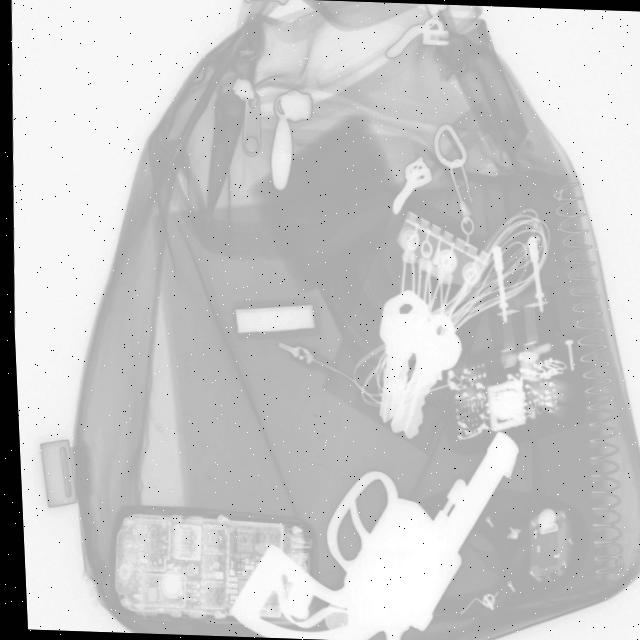grenade: (81, 502, 321, 640)
